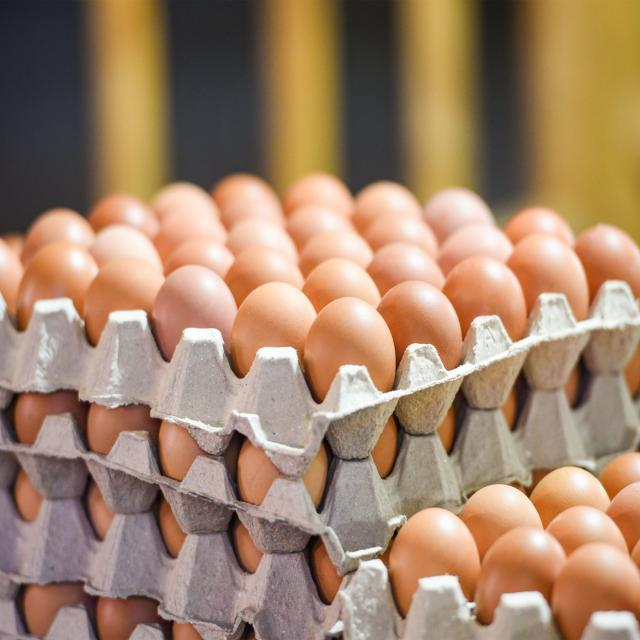huevos: (148, 262, 238, 366)
